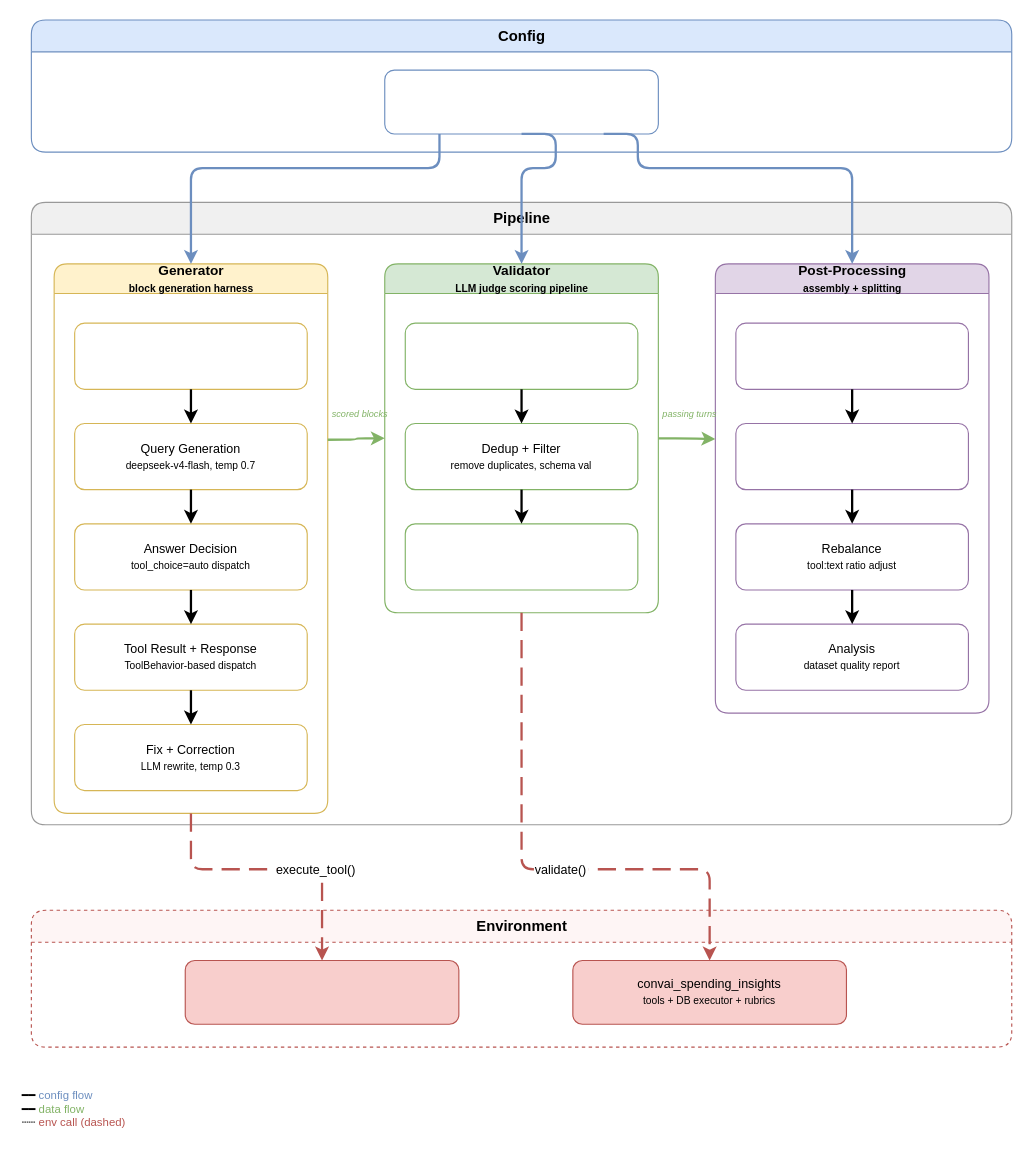
Image size: 1032x1170. Some labels were removed from this diagram. The shapes that lost their labels are listed below. From the top down, each one's centre as x and y in pixels, then its label:
At point (521, 101): "generation_plan_*.yaml env + models + taxonomy + thresholds".
At point (190, 355): "Combo Grid dialect×type×topic×emotion".
At point (521, 355): "LLM Scorer rubric judge, mean≥8 gate".
At point (851, 355): "Assemble Blocks stitch blocks→conversations".
At point (851, 456): "Train/Val/Eval Split ratios from config".
At point (521, 556): "Merge Scores ensemble min-per-turn".
At point (321, 991): "base.py (ABC) ToolSpec + ToolBehavior protocol".
